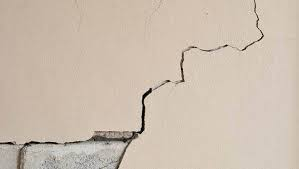stairstep_crack: (0, 0, 265, 168)
